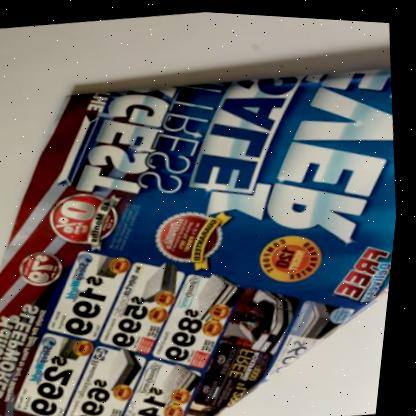Paper: (0, 63, 400, 416)
